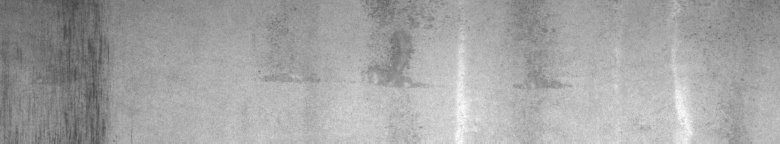ka: (44, 4, 112, 136)
